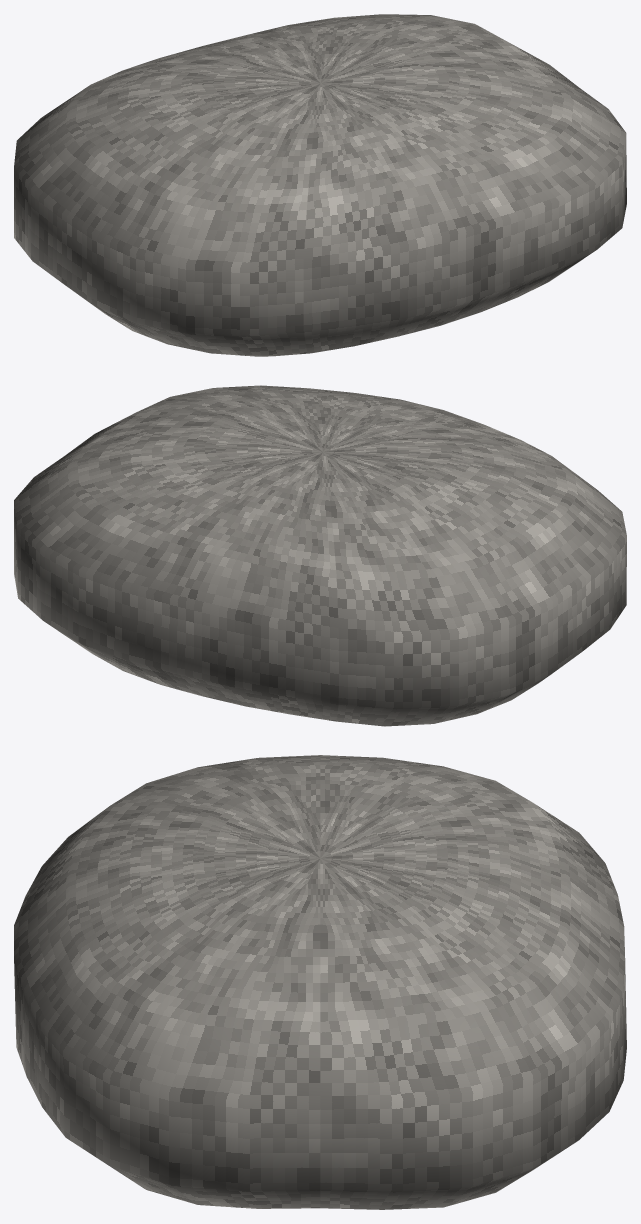
The model's file is t5_tex.glb.
The picture shows the model from 3 angles, top to bottom: view 1: azimuth 30°, elevation 25°; view 2: azimuth 150°, elevation 25°; view 3: azimuth 270°, elevation 25°; orthographic projection. The views are drawn at different scales.
Visible parts, largest first — view 1: root; view 2: root; view 3: root.
Part boxes in pixels (bbox=[...]): root: bbox=[14, 14, 626, 356]; root: bbox=[14, 385, 626, 726]; root: bbox=[14, 755, 626, 1209].
Size of the model in its own units: 0.4396 by 0.1807 by 0.3568.
Materials: 1 (1 with a texture image).
